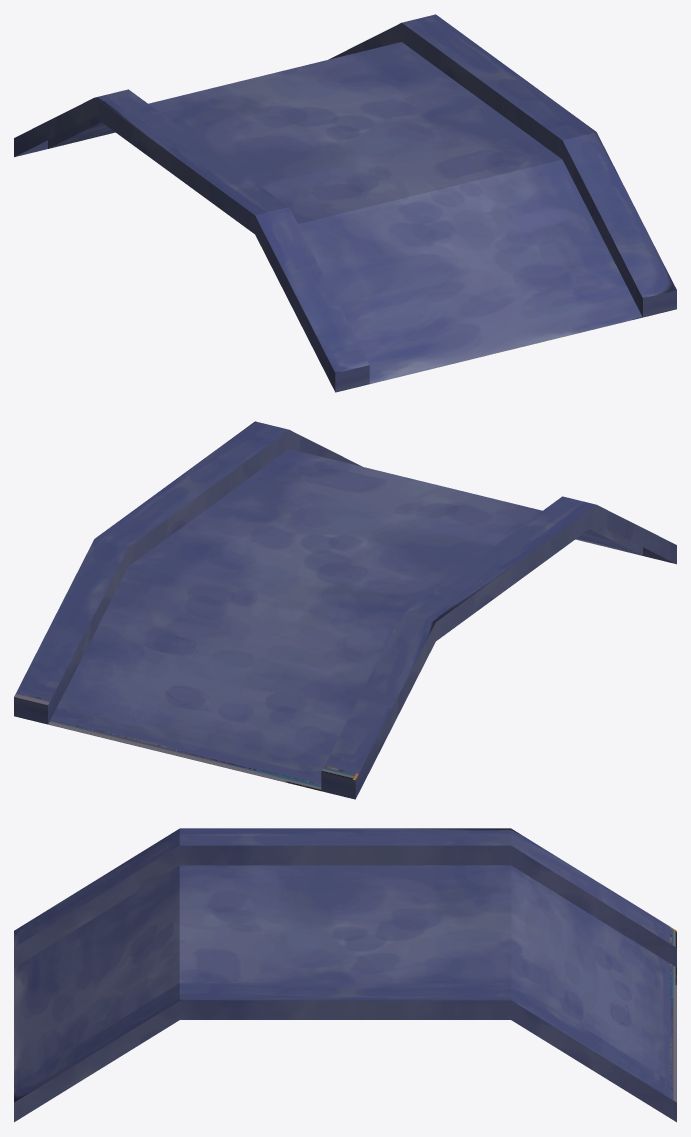
Rendered from Bridge_Only.fbx.
3 views of the same model, one above another, from view 1: azimuth 30°, elevation 25°; view 2: azimuth 150°, elevation 25°; view 3: azimuth 270°, elevation 25° (orthographic). The views are drawn at different scales.
Parts seen in each view (by area): view 1: Bridge_003; view 2: Bridge_003; view 3: Bridge_003.
Part boxes in pixels (<box>): Bridge_003: <box>14,14,676,392</box>; Bridge_003: <box>14,421,676,799</box>; Bridge_003: <box>14,828,676,1122</box>.
Bounding box in the file's own units: 8.27 × 2.74 × 13.48.
